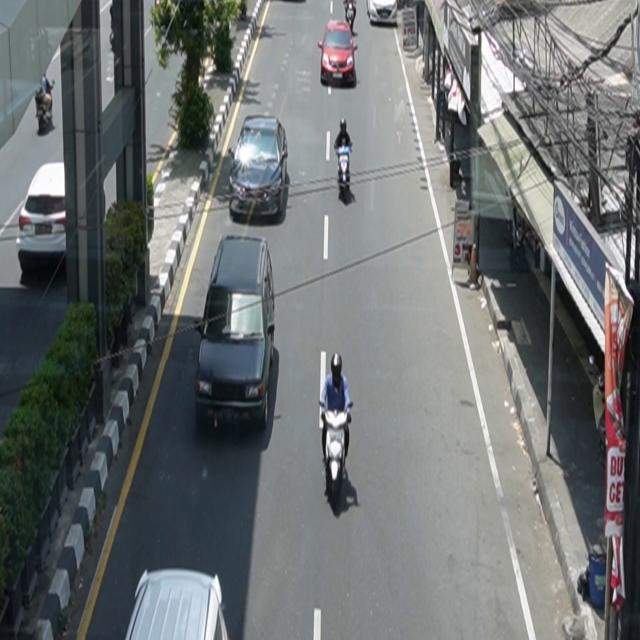car: (195, 234, 276, 432), (126, 568, 230, 640), (229, 115, 289, 221), (318, 19, 359, 87), (368, 1, 399, 26)
